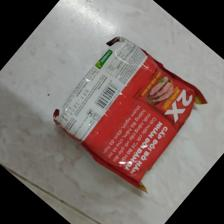3mien: (52, 36, 209, 194)
